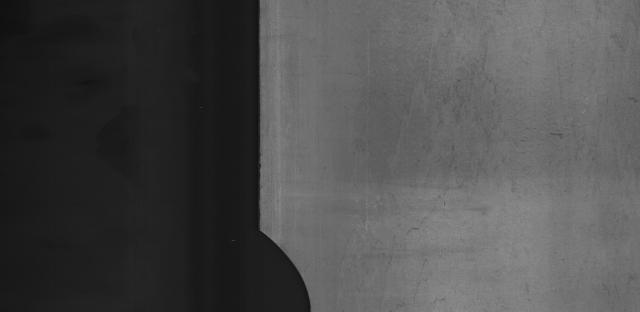crescent_gap: (242, 225, 318, 312)
